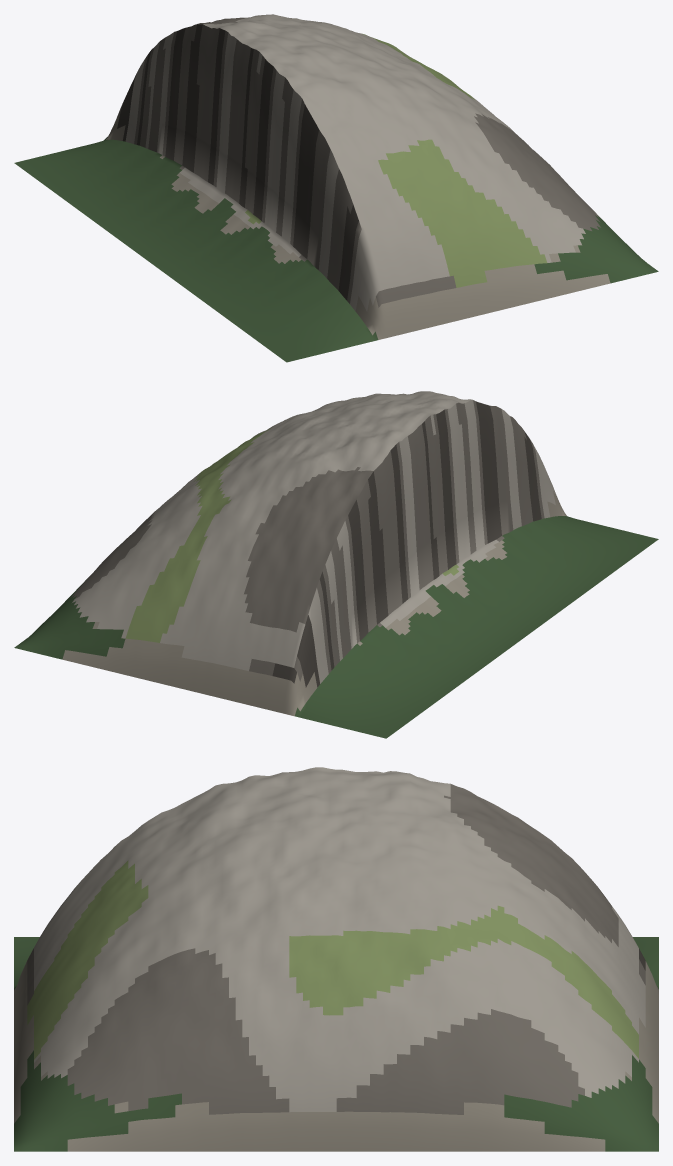
The model's file is landmark-half-dome-hi.glb.
3 renders of one model, top to bottom at view 1: azimuth 30°, elevation 25°; view 2: azimuth 150°, elevation 25°; view 3: azimuth 270°, elevation 25°, orthographic. The views are drawn at different scales.
Parts seen in each view (by area): view 1: half-dome.001; view 2: half-dome.001; view 3: half-dome.001.
Boxes of the visible parts, x1,y1,x2,y2 form: half-dome.001: [14, 14, 658, 362]; half-dome.001: [14, 391, 658, 738]; half-dome.001: [14, 767, 658, 1151].
Bounding box in the file's own units: 2.05 × 1.01 × 2.6.
